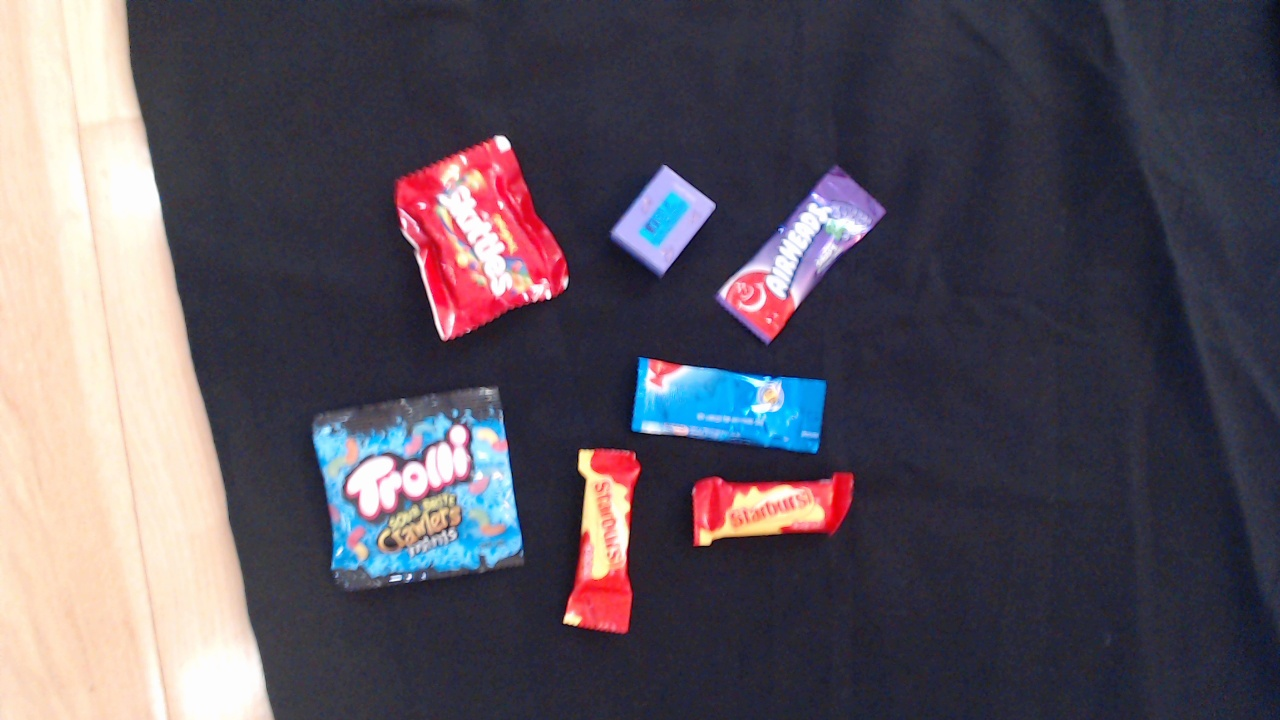airheads: (730, 154, 898, 341), (624, 341, 842, 462)
gummy_worms: (290, 384, 540, 599)
nerds: (597, 152, 722, 288)
skittles: (354, 124, 578, 338)
starbust: (680, 467, 879, 558), (567, 436, 640, 650)
